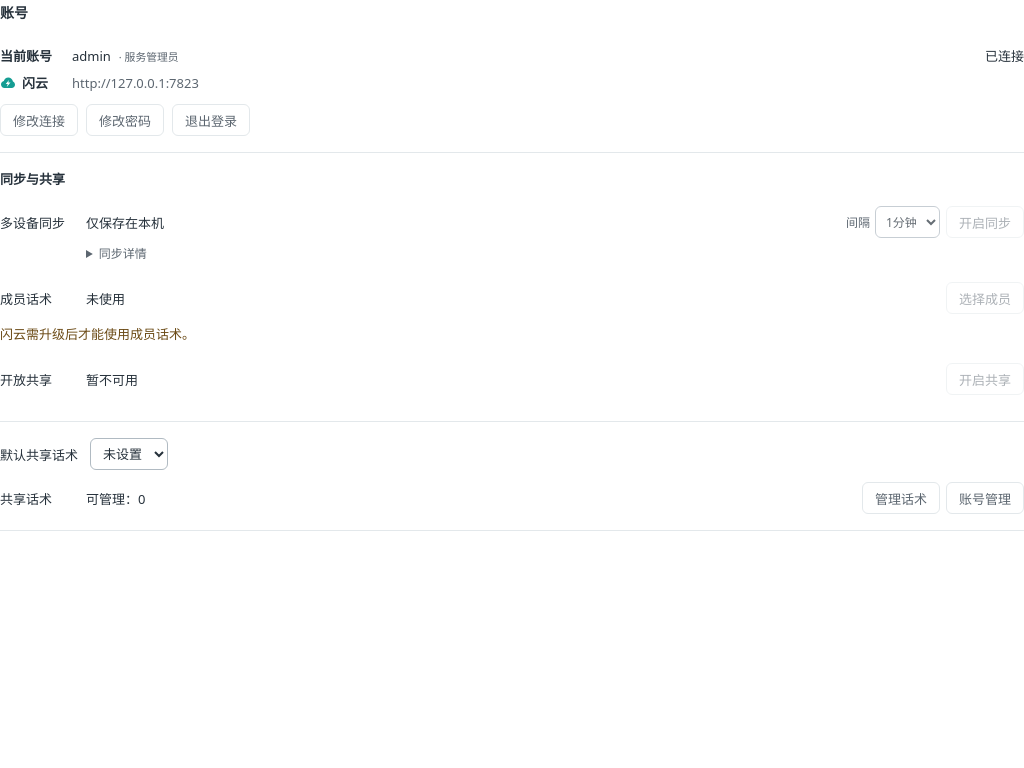
Test: 修改连接失败保留表单供重试，提交期间禁止重复，成功关闭
Click the button "修改连接" at point(39, 120), box left=0, top=104, right=78, bottom=136
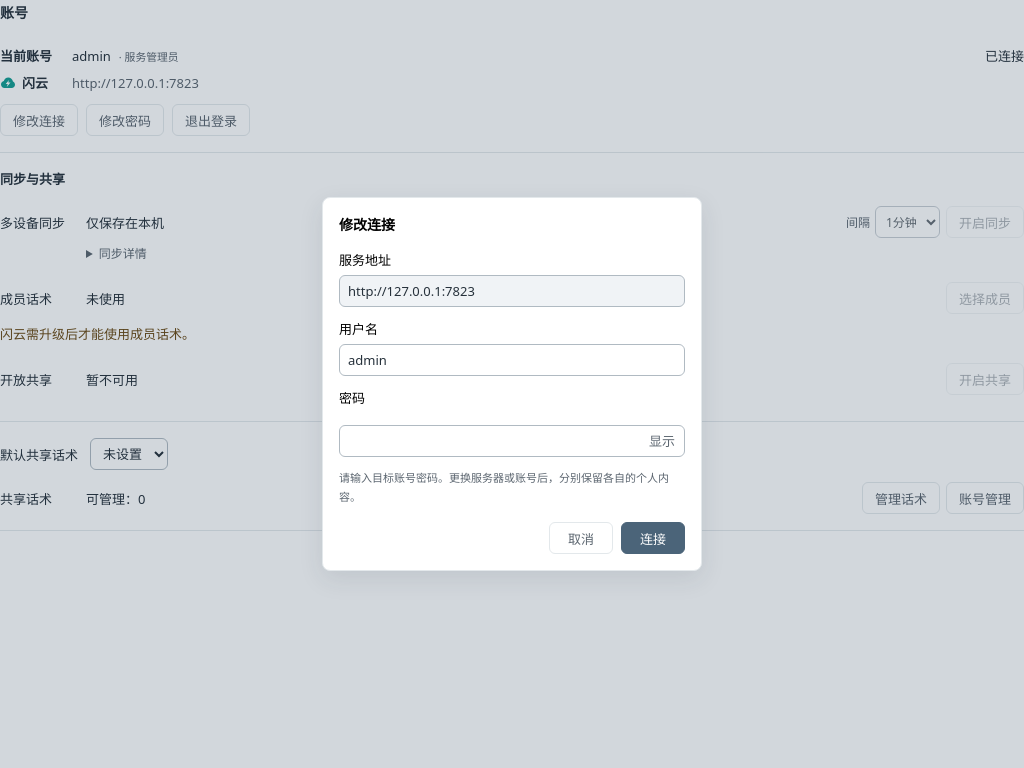
Replace the text in the field labelled "服务地址" with " http://new-hub:7823 " at point(512, 291), box left=339, top=275, right=685, bottom=307
Replace the text in the field labelled "用户名" with " 002 " at point(512, 360), box left=339, top=344, right=685, bottom=376
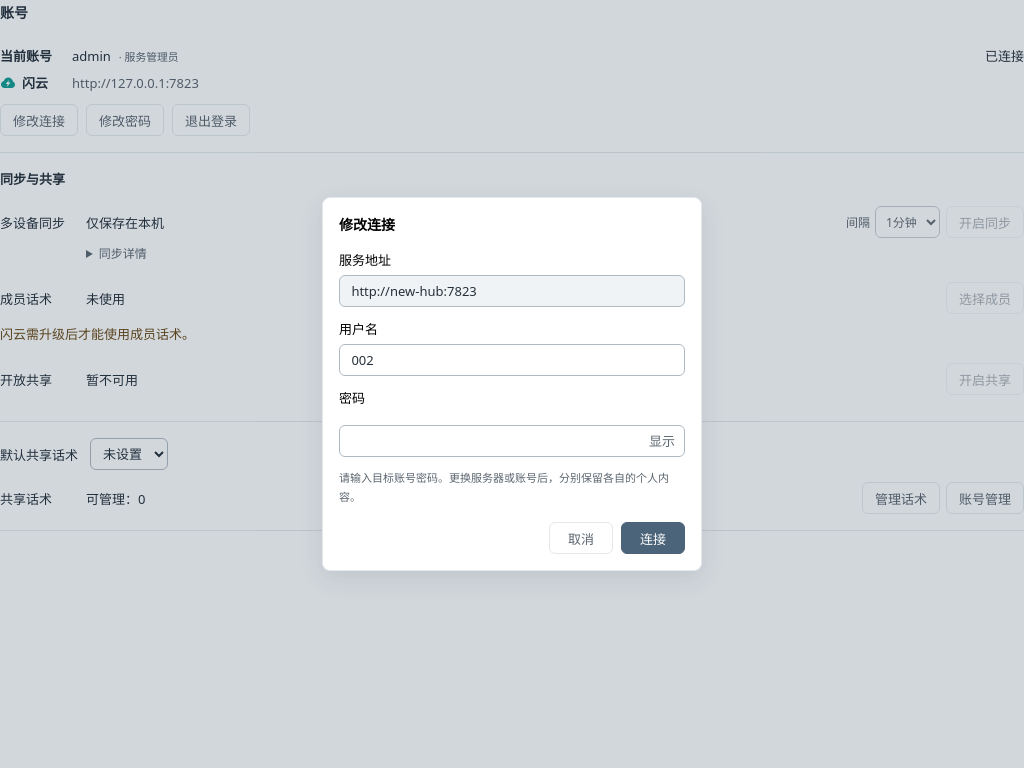
Type "new-password" into the password field labelled "密码" at point(512, 441), box left=339, top=425, right=685, bottom=457
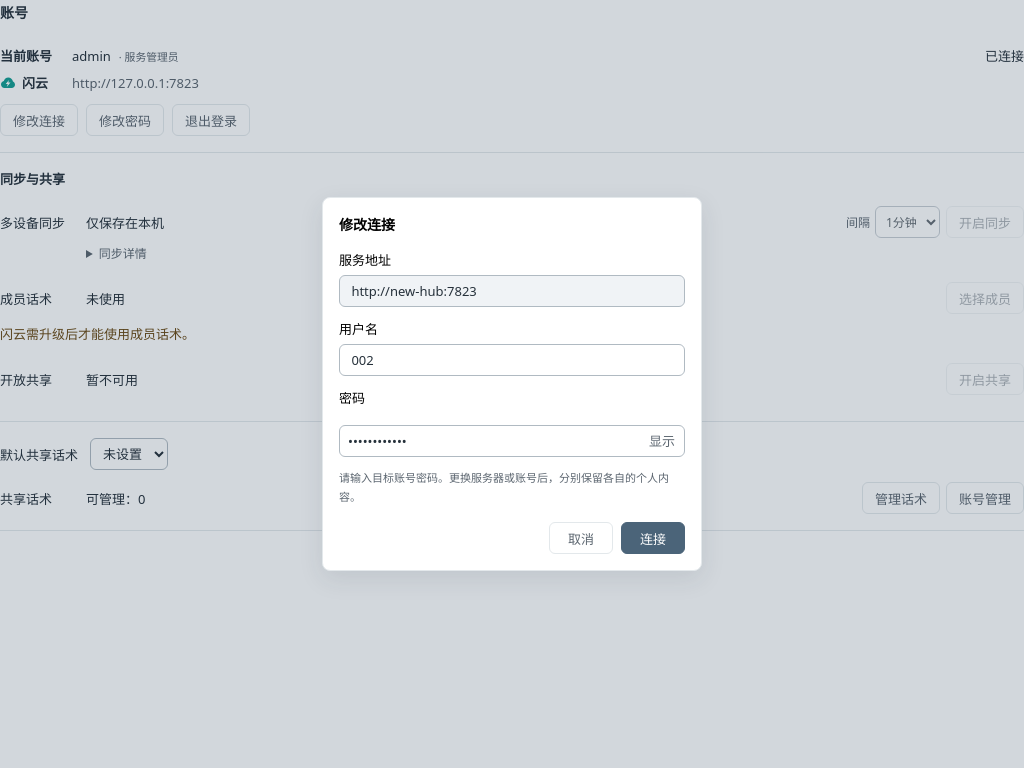
Submit the form, box left=339, top=214, right=685, bottom=554
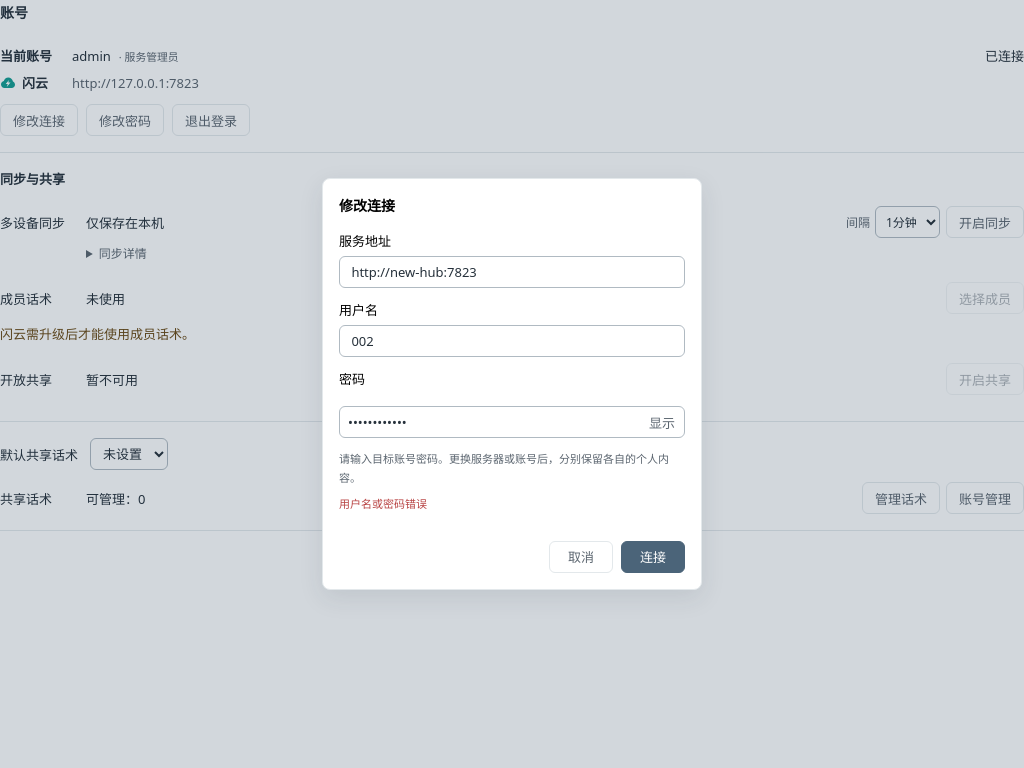
Expected: the text "http://127.0.0.1:7823" is shown, left=72, top=74, right=199, bottom=92
Expected: the text "用户名或密码错误" is shown, left=339, top=496, right=427, bottom=511
Submit the form, box left=339, top=196, right=685, bottom=573
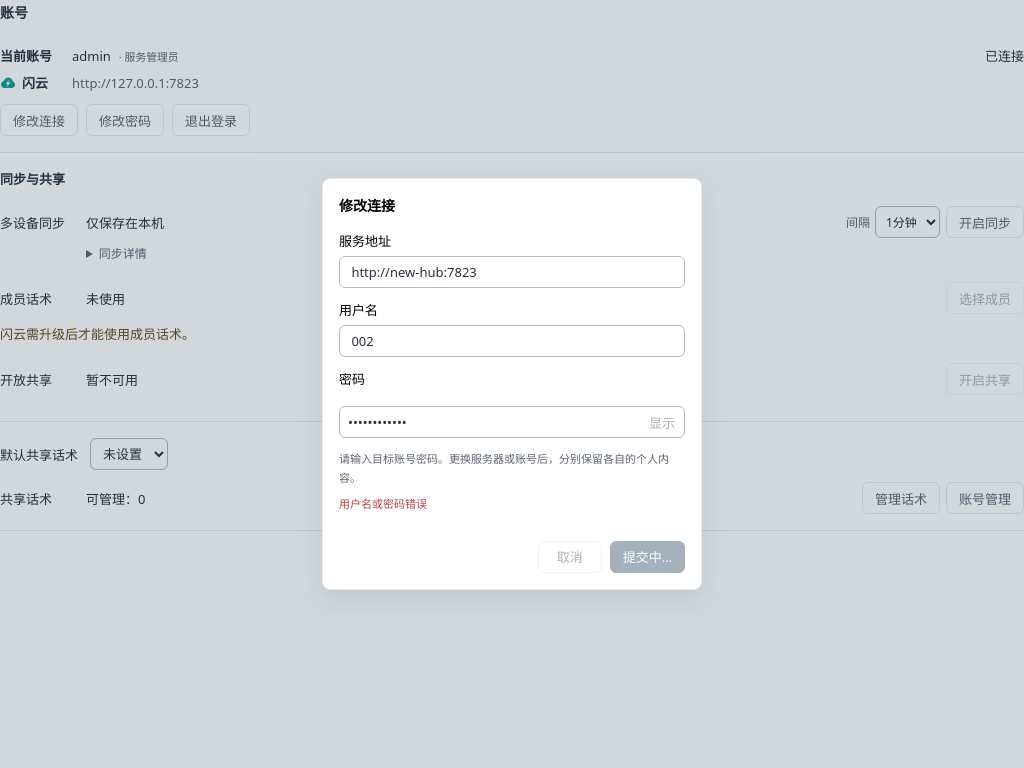
Expected: the element labelled "密码" is disabled, left=339, top=232, right=685, bottom=525
Submit the form, box left=339, top=196, right=685, bottom=573
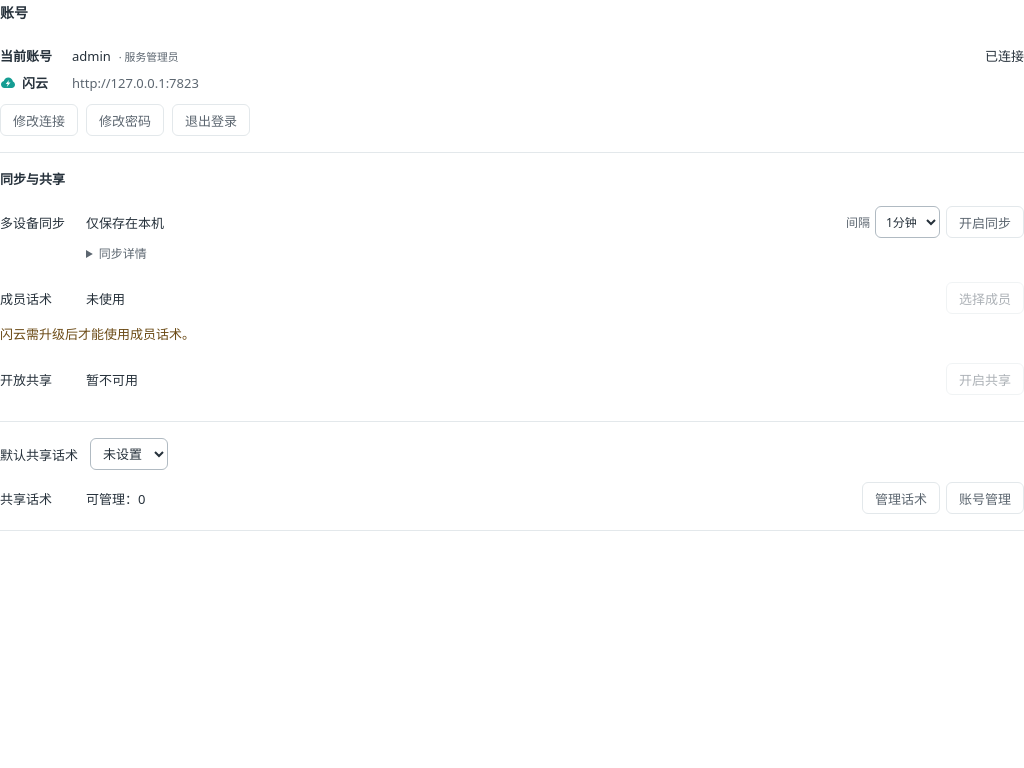
Expected: the dialog is gone
